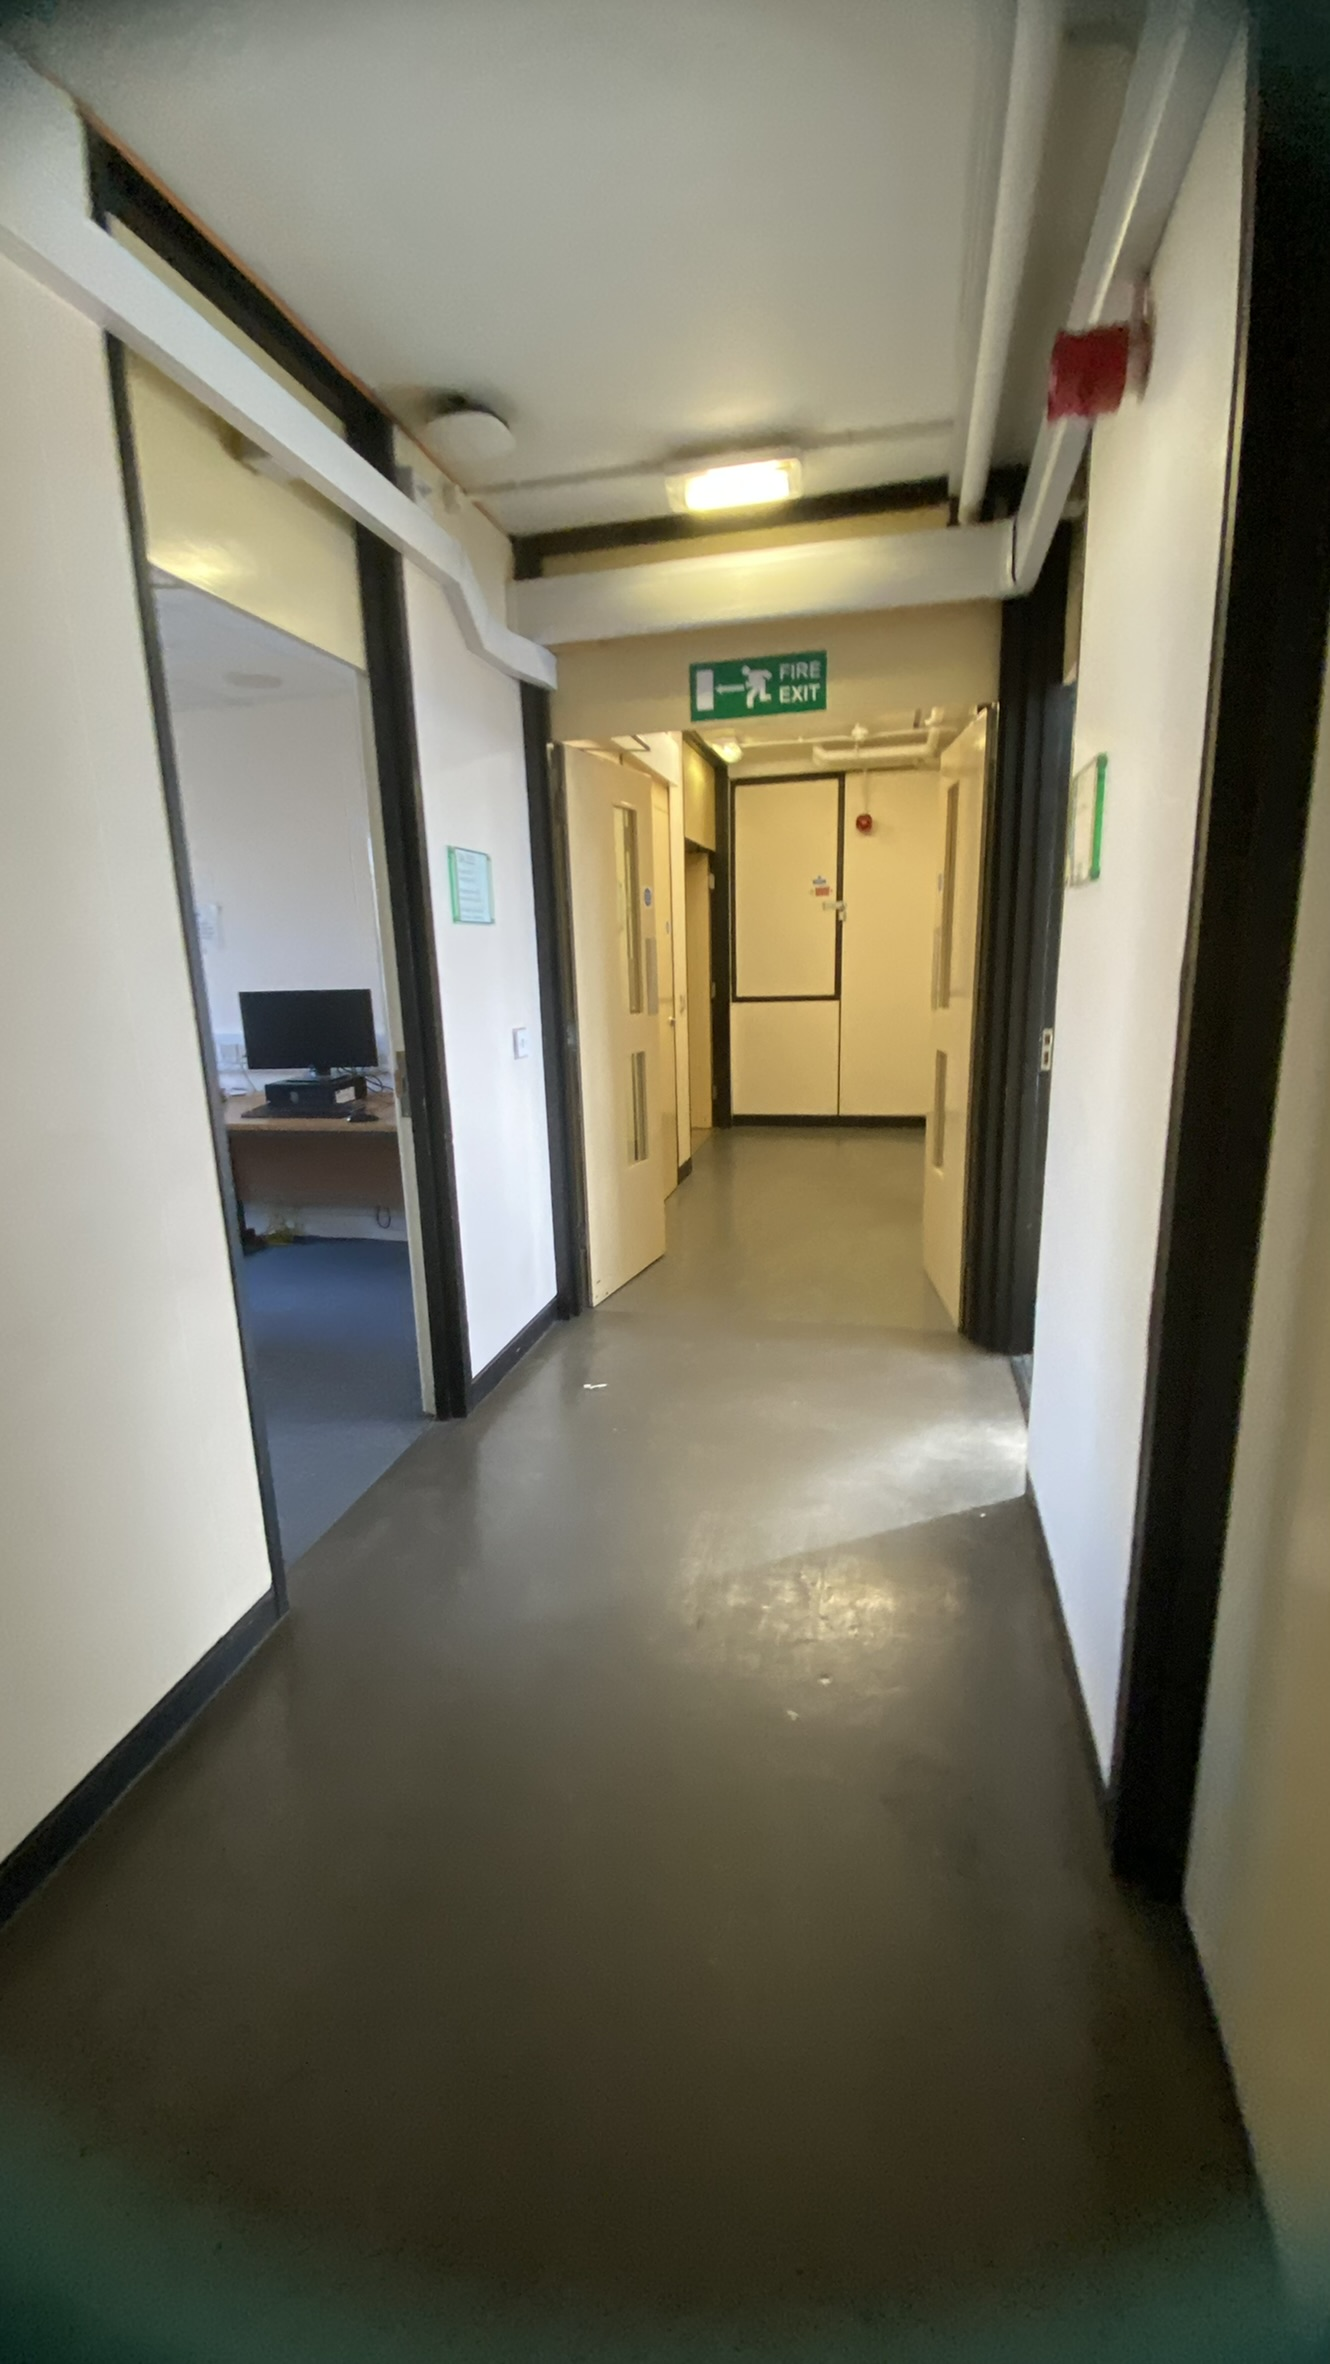door: (67, 307, 525, 1596), (516, 575, 1034, 1426)
